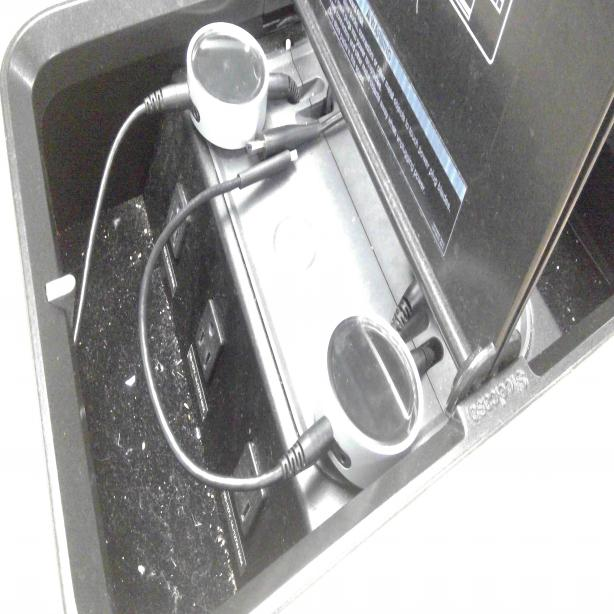typeb: (194, 312, 222, 370)
